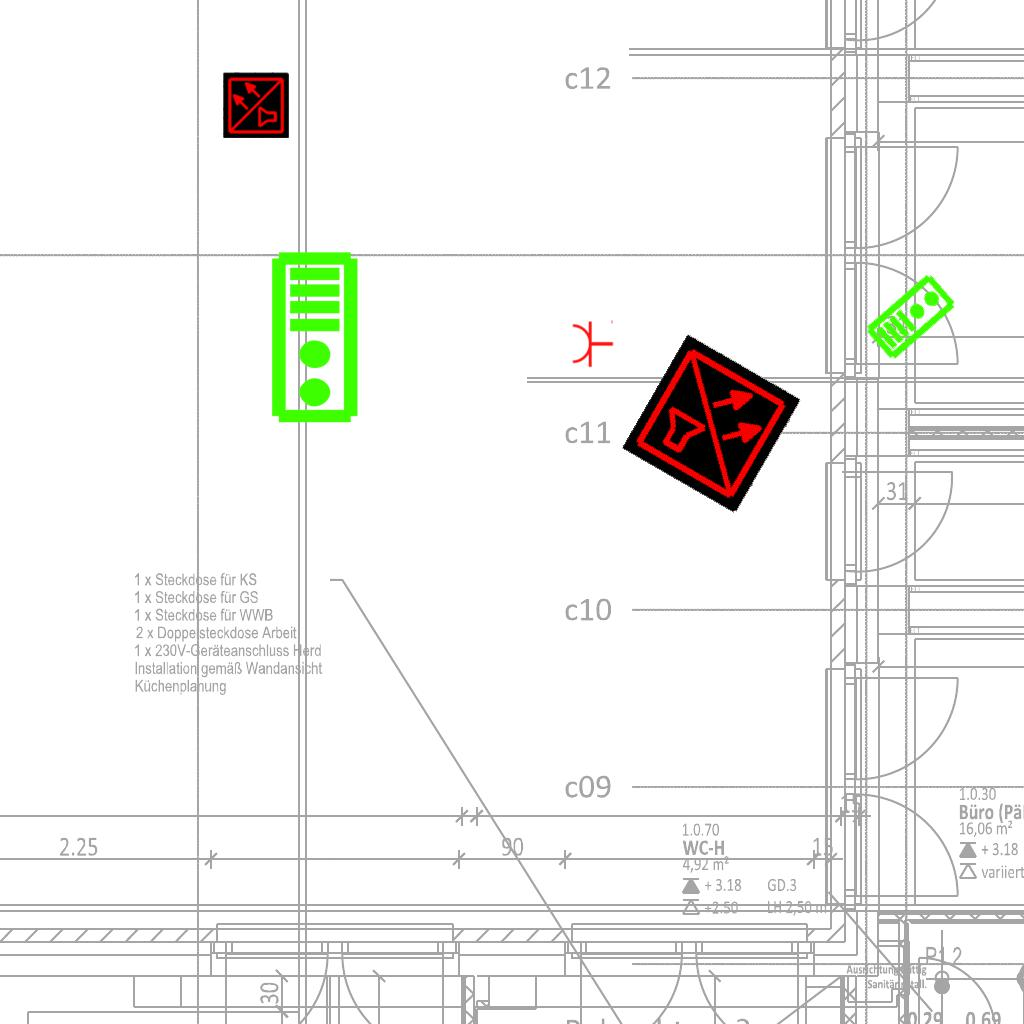Gegensprechanlage_mit_Video: (269, 250, 364, 426), (861, 269, 960, 363)
OKW_Multisensormelder_(Kombination_optischer_Rauch-Kahlenmonoxid_Waerme-Melder): (621, 333, 803, 515), (223, 72, 289, 138)
Schukosteckdose_einfach: (571, 318, 614, 368)
